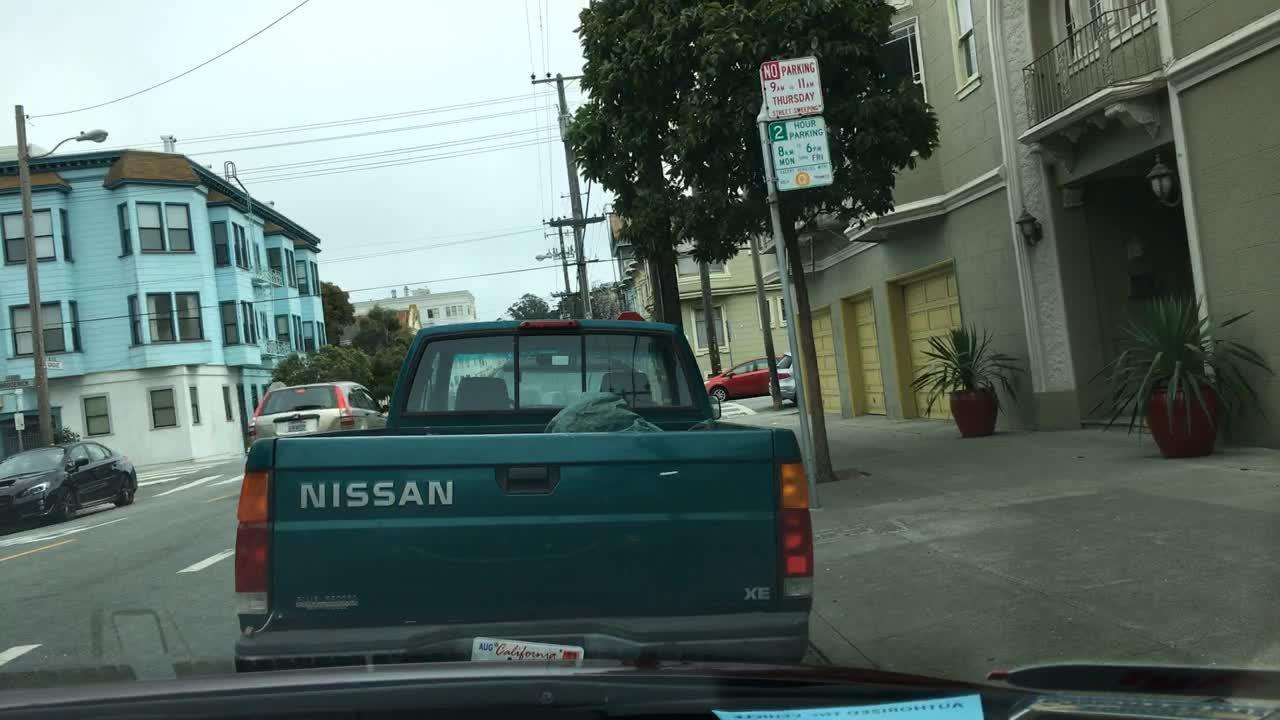Nissan: (290, 473, 467, 517)
